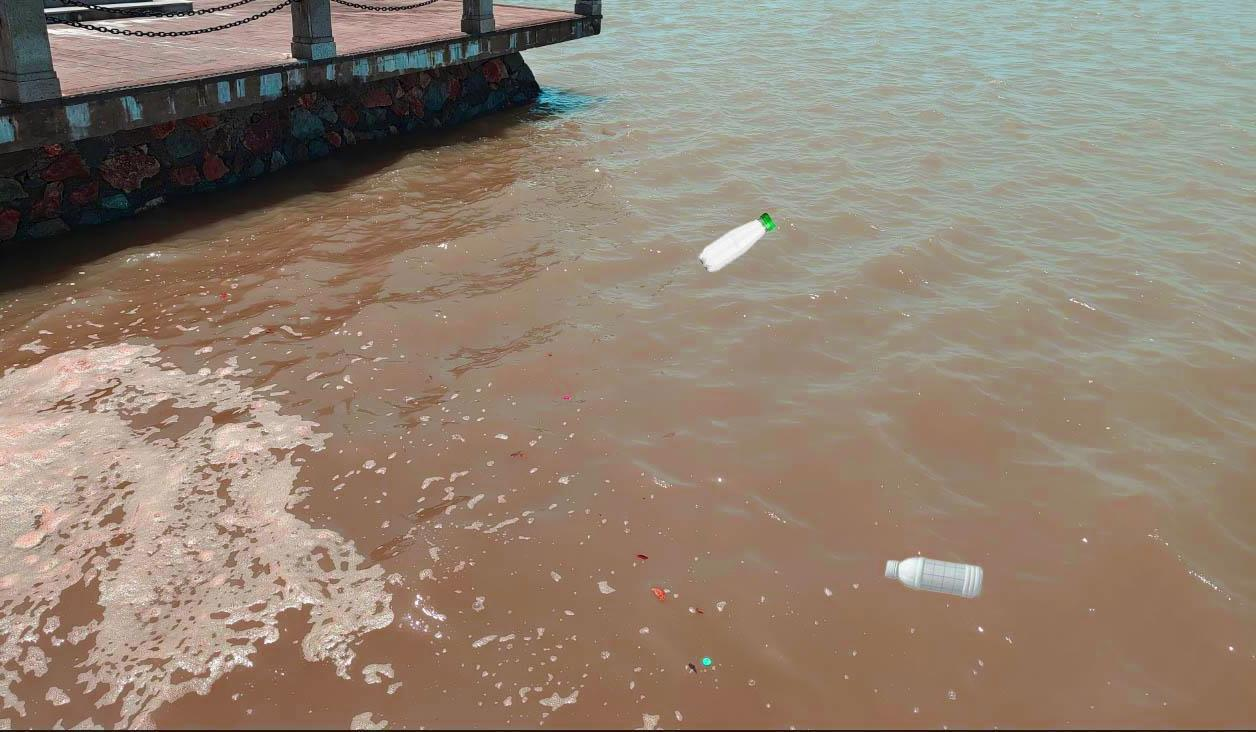Plastic: (697, 208, 781, 275), (880, 553, 988, 599)
